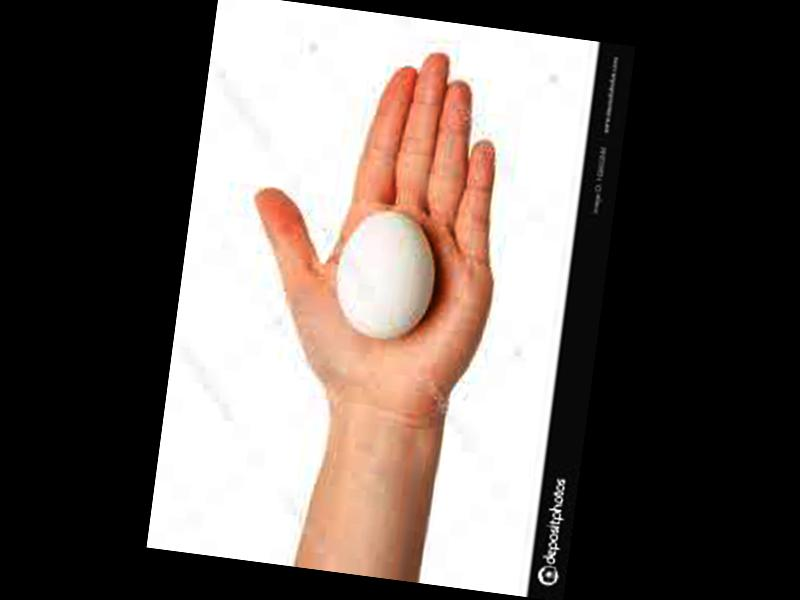Eggs: (332, 205, 438, 343)
